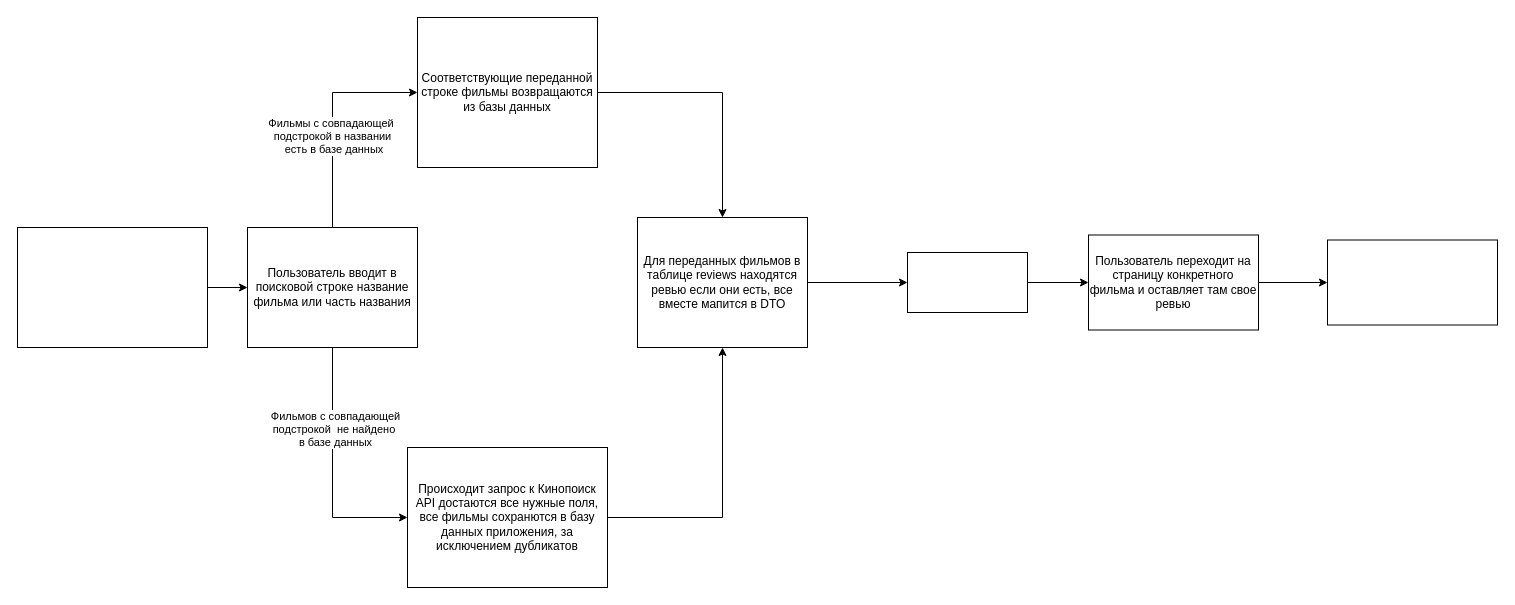
Some shapes in this 1515 by 605 pixel diagram are drawn without their labels. Each missing label, with the centre of its shape:
Пользователь получает список фильмов: [967,282]
Пользователь теперь имеет в своей коллекции фильм с его ревью на данный фильм: [1412,282]
Пользователю необходимо создать аккаунт и авторизироваться: [112,287]
